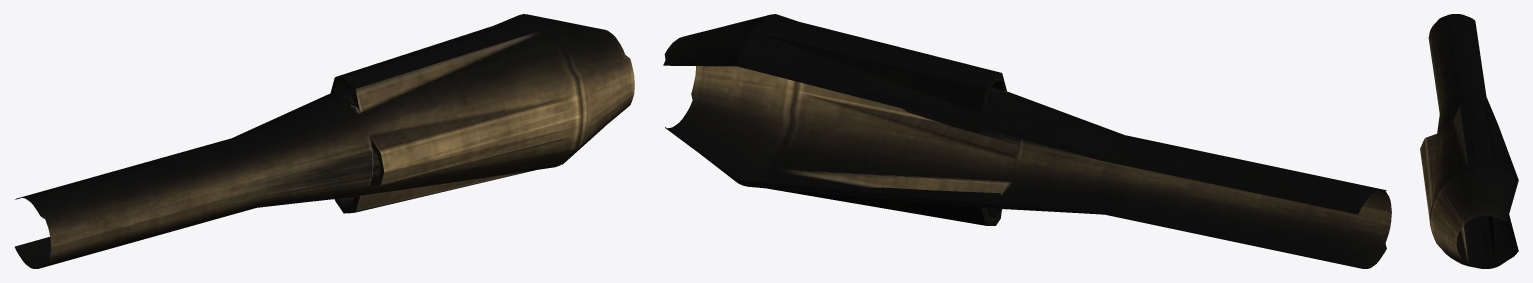
Rendered from v_rock2_5.obj.
The picture shows the model from 3 angles, left to right: view 1: azimuth 30°, elevation 25°; view 2: azimuth 150°, elevation 25°; view 3: azimuth 270°, elevation 25°; orthographic projection. The views are drawn at different scales.
Bounding box in the file's own units: 46.54 × 10.5 × 9.39.
Materials: 1 (1 with a texture image).
